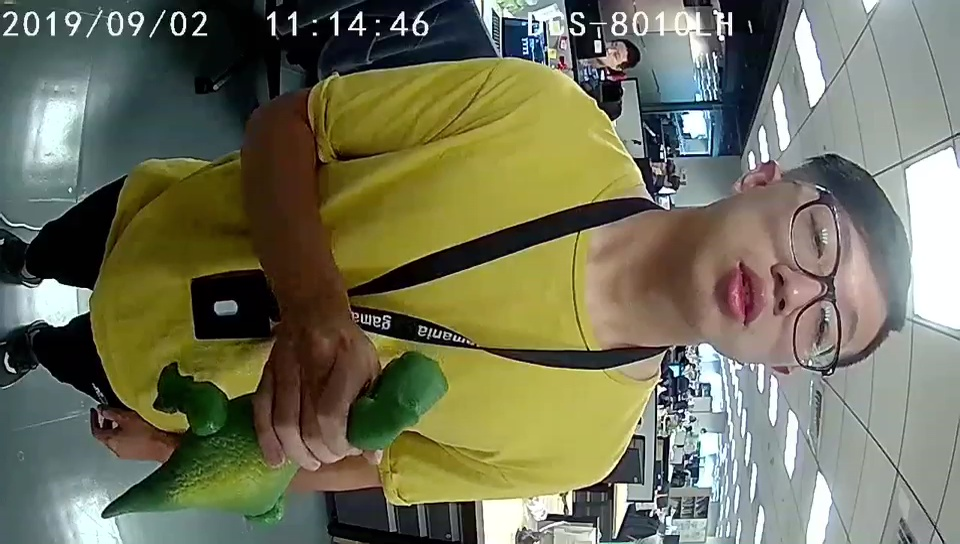rex: (157, 352, 449, 524)
